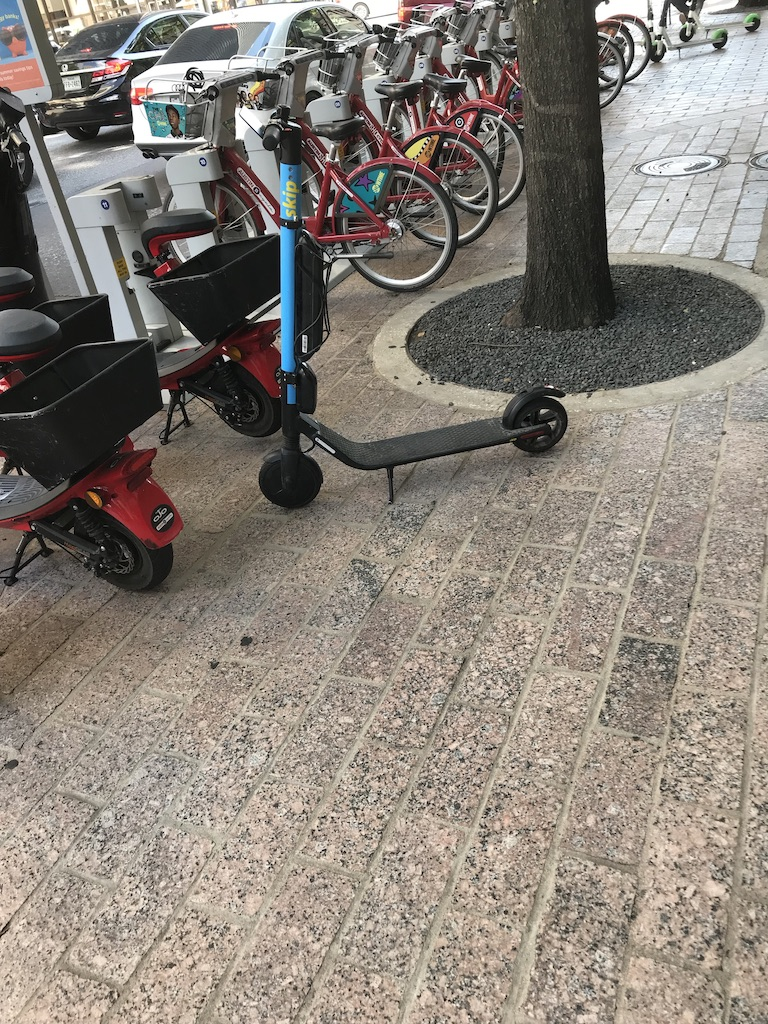scooter: (260, 103, 572, 512)
